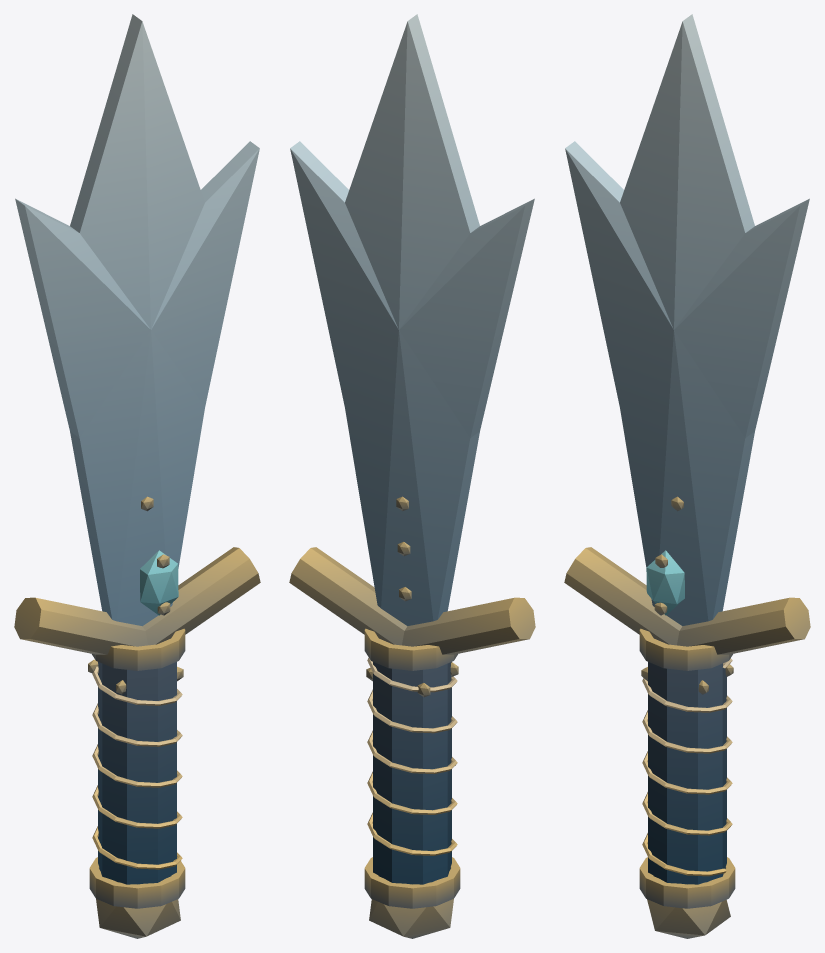
File: daga_tridente_perla.glb
3 renders of one model, left to right at view 1: azimuth 30°, elevation 25°; view 2: azimuth 150°, elevation 25°; view 3: azimuth 330°, elevation 25°, orthographic.
Parts seen in each view (by area): view 1: daga_tridente_perla_finished; view 2: daga_tridente_perla_finished; view 3: daga_tridente_perla_finished.
Part boxes in pixels (x1,y1,x2,y2): daga_tridente_perla_finished: [14, 14, 260, 938]; daga_tridente_perla_finished: [289, 14, 535, 938]; daga_tridente_perla_finished: [564, 14, 810, 938].
Bounding box in the file's own units: 0.3 × 1.12 × 0.1161.
2 materials, 2 textured.
